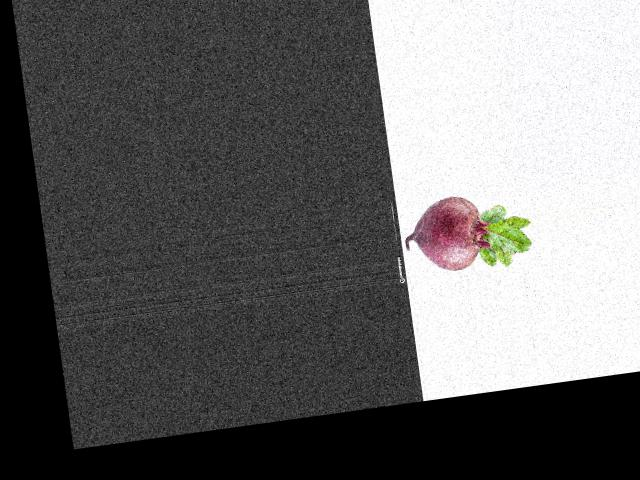beet: (400, 186, 536, 279)
